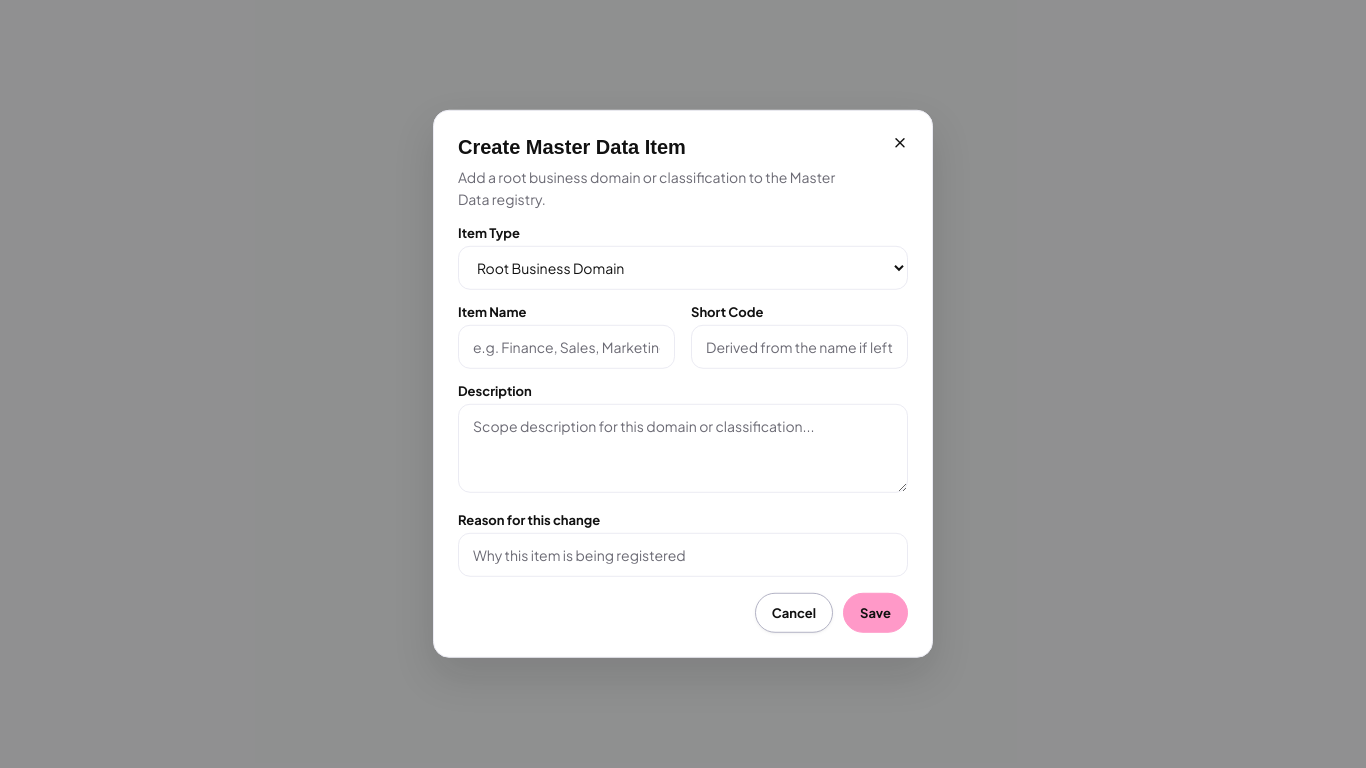
it: an unavailable registry says nothing was created, not that it failed
Type "Finance" into the field labelled "Item Name" at (566, 347), box [458, 325, 675, 369]
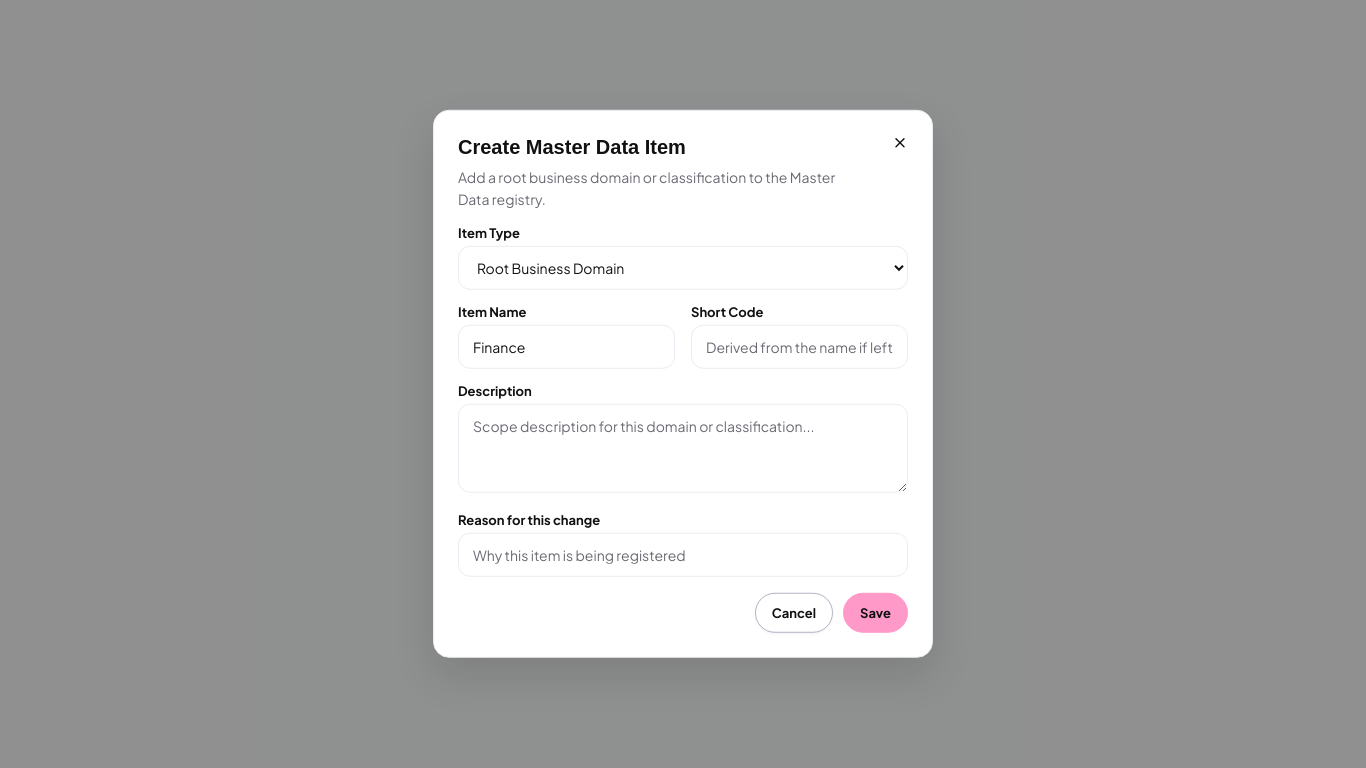
Type "New finance perimeter" into the field labelled "Reason for this change" at (683, 555), box [458, 533, 908, 577]
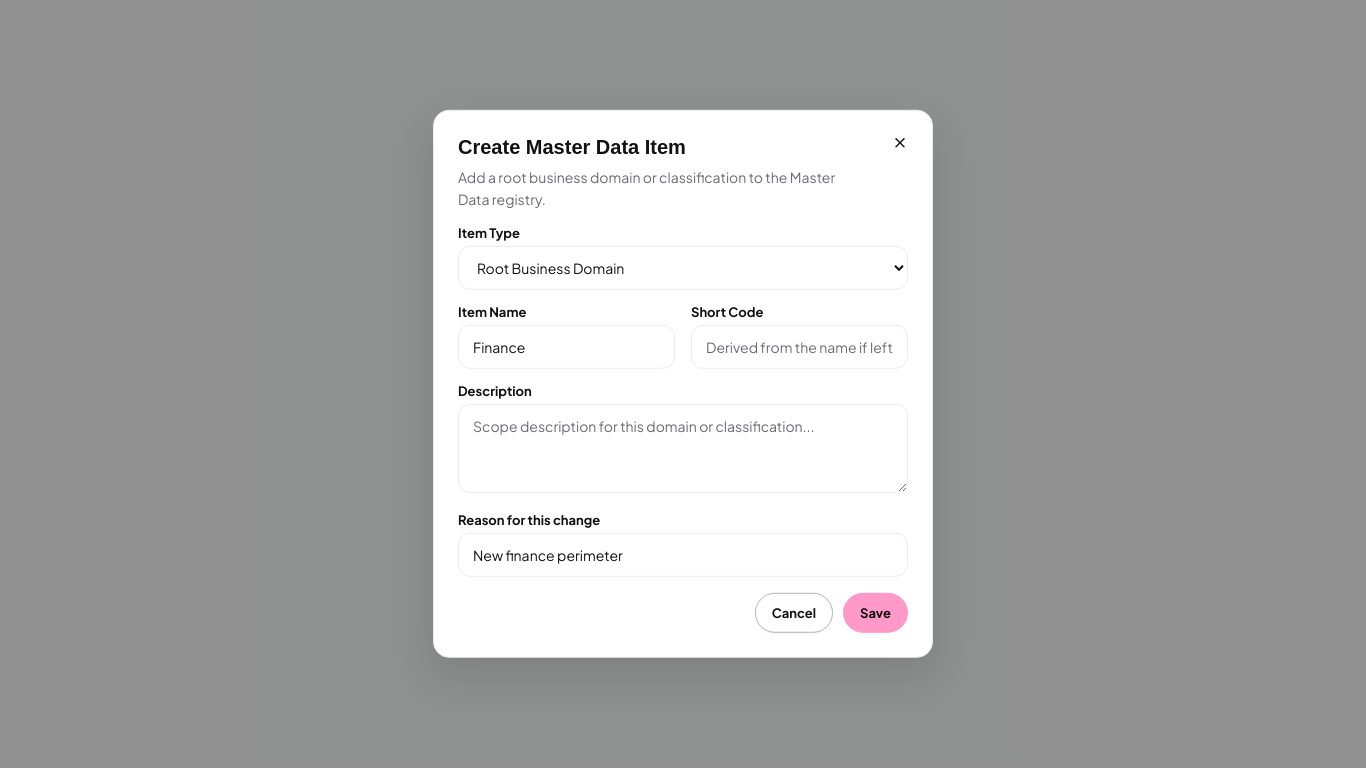
Click the button "Save" at (876, 613), box [843, 593, 908, 633]
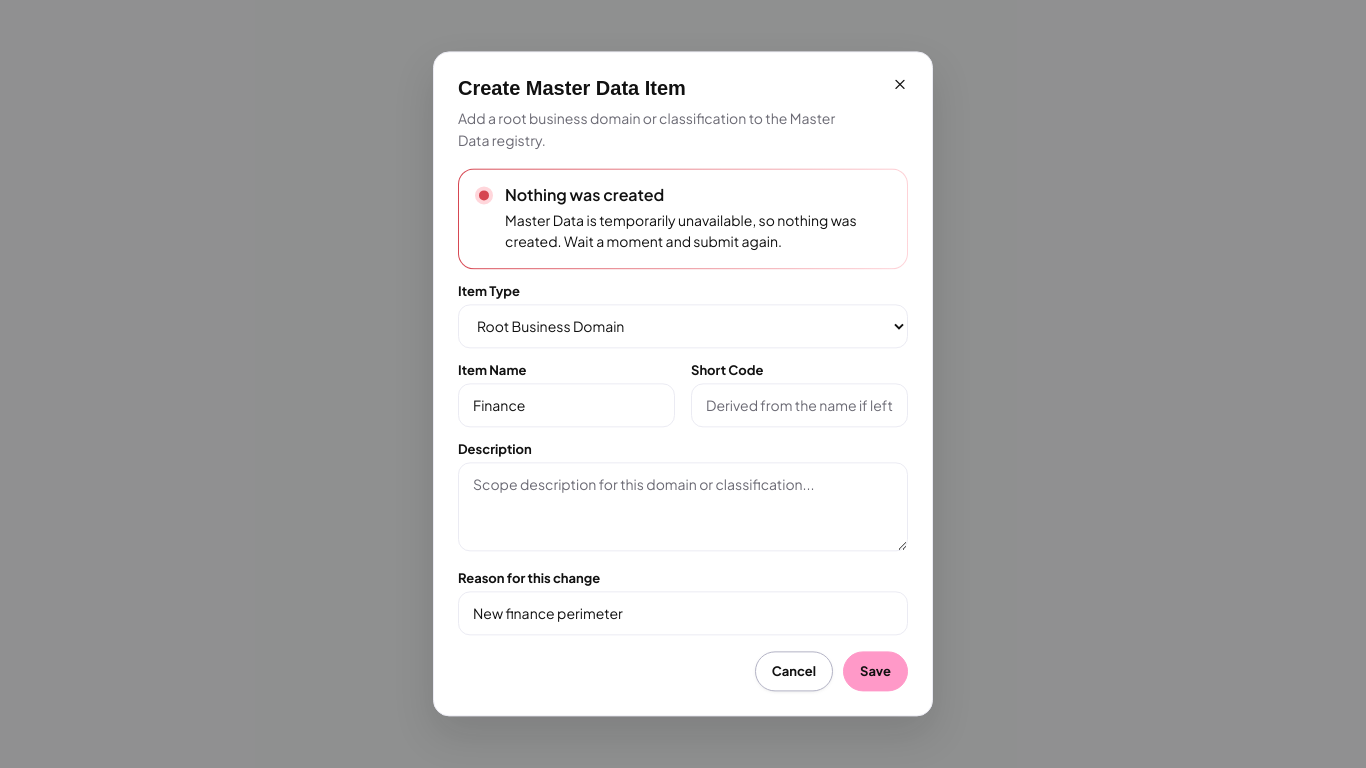
Expected: the text "temporarily unavailable, so nothing was created" is shown, [505, 211, 857, 250]
